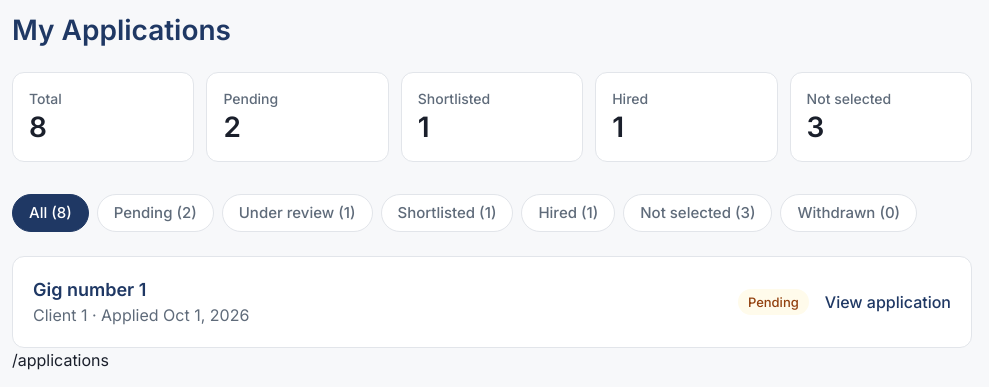
Test case: MyApplications › writes the selected tab to the URL when a tab is clicked
The width and height of the screenshot is (989, 387).
Expected: the link "Gig number 1" is shown, [33,279,146,300]
Click the button "Shortlisted (1)" at (447, 213), box [380,194,513,232]
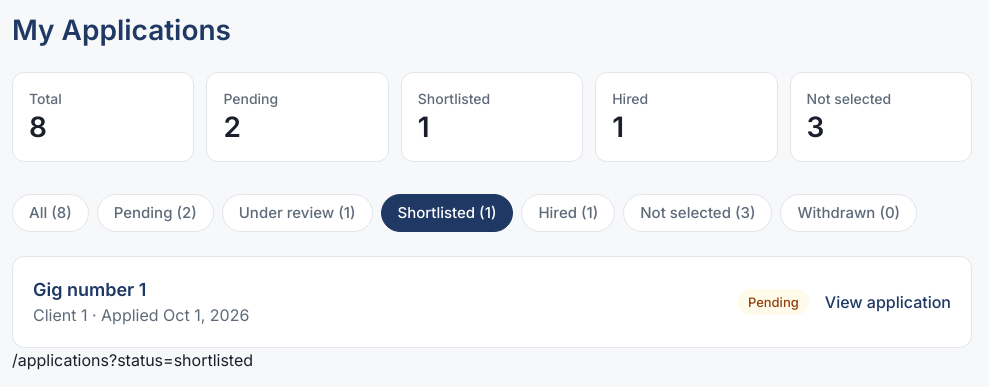
Now the text with test id "location" reads "/applications?status=shortlisted", box [12,350,253,370]
